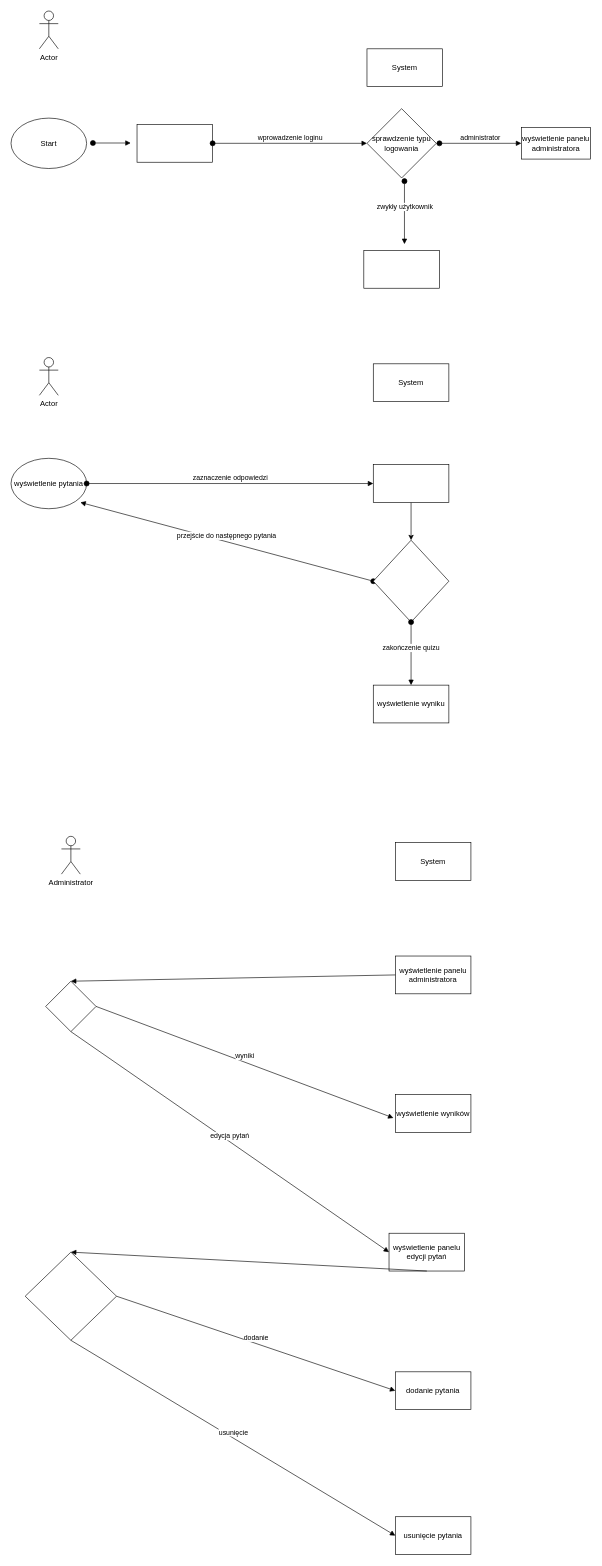
Some shapes in this 602 by 1566 pixel diagram are drawn without their labels. Here are the shapes that lost their labels. From the top down, the centre of each, then its label:
point 174,143: logowanie
point 401,269: przejście do quizu
point 411,483: zapisanie odpowiedzi
point 411,581: sprawdzenie czy należy zadać następne pytanie
point 70,1006: wybór działania
point 71,1295: wybór działania na pytaniach
